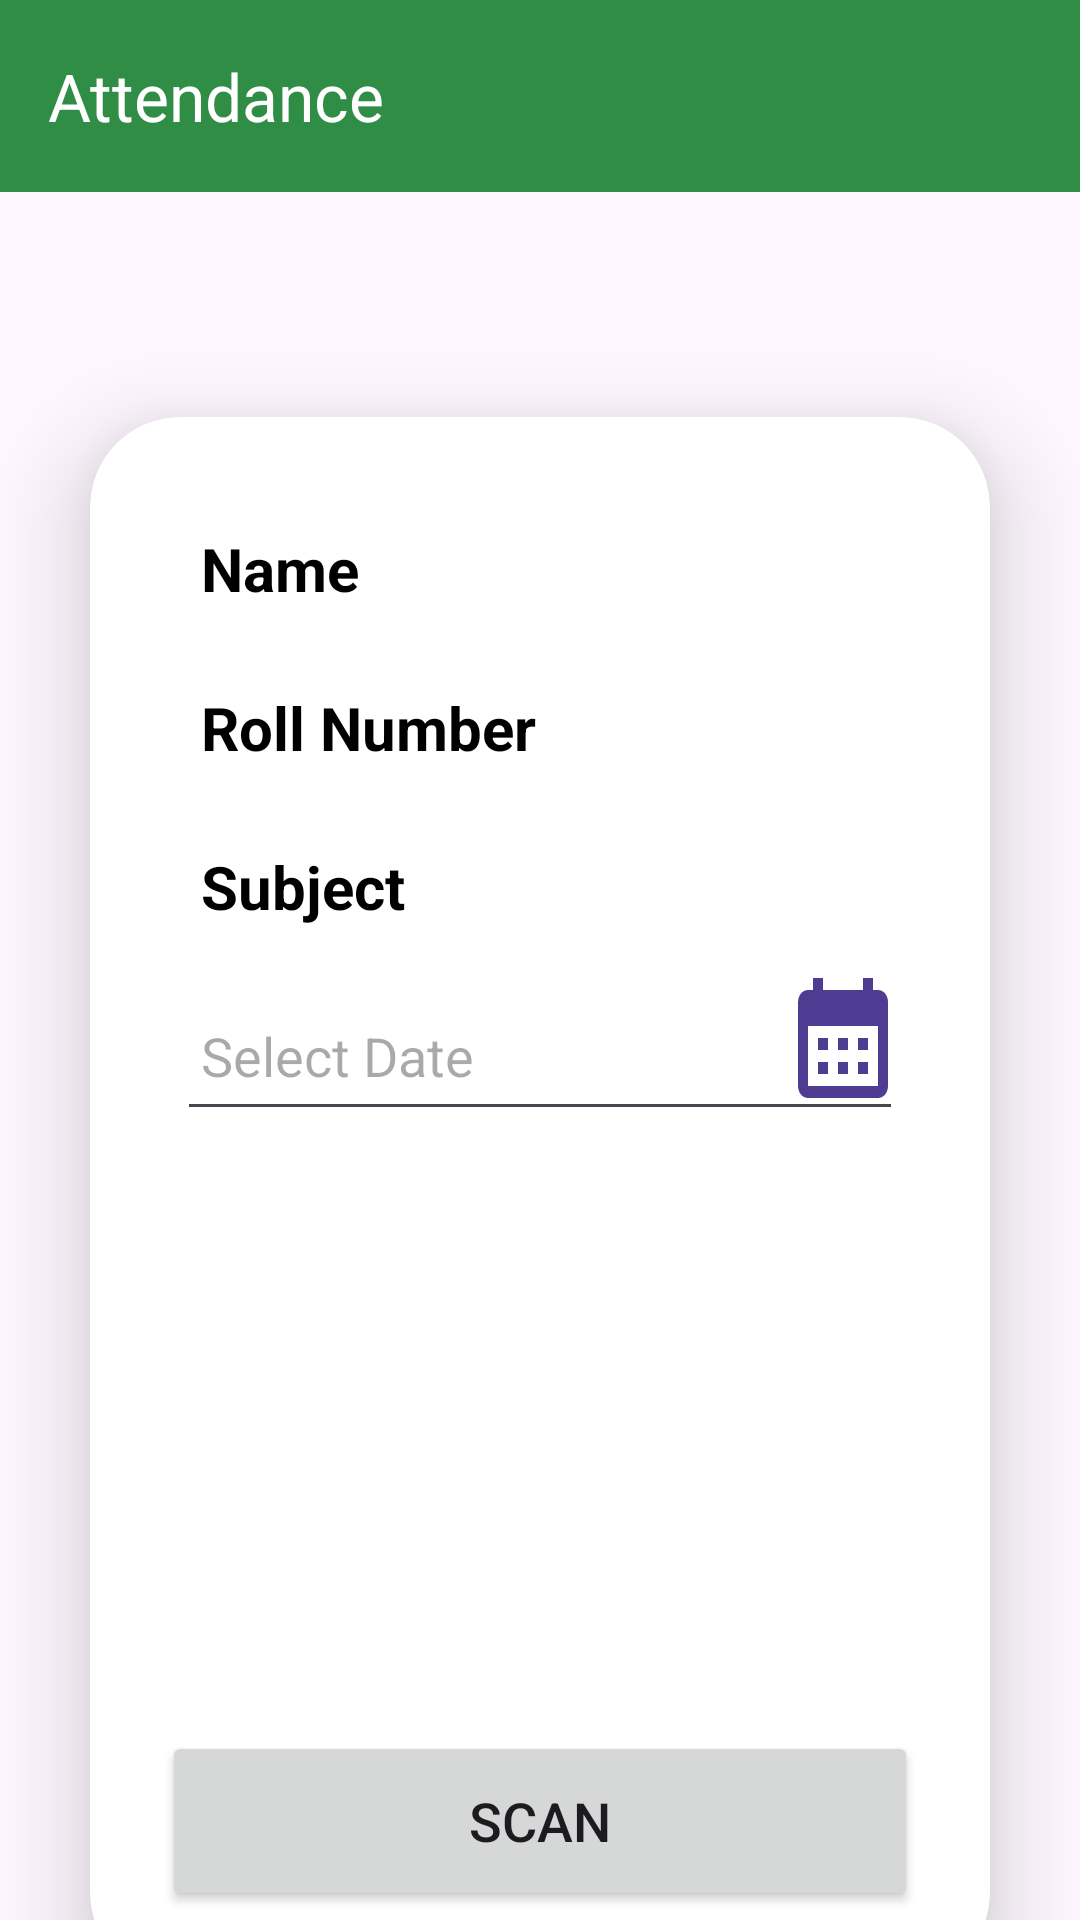

Icons on this 1080w x 1920h Android screen, each with its box as [x1=x1, y1=y1, x2=x2, y2=y2]:
calendar month: [x1=798, y1=978, x2=888, y2=1098]
